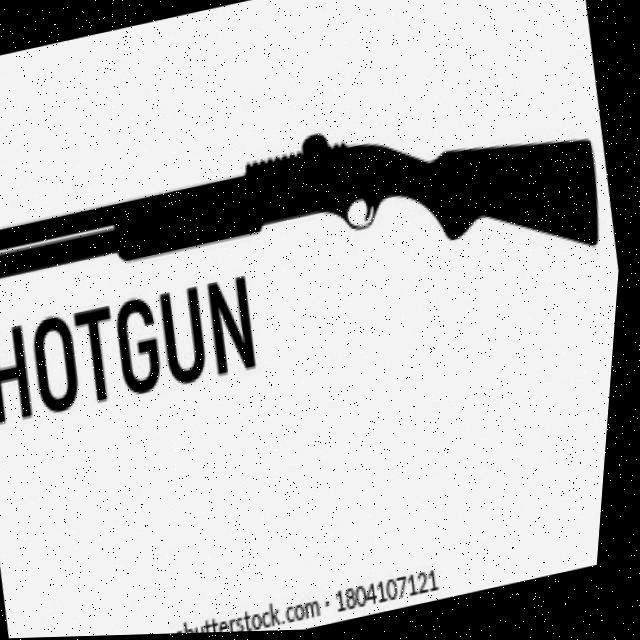firearm: (0, 81, 616, 381)
